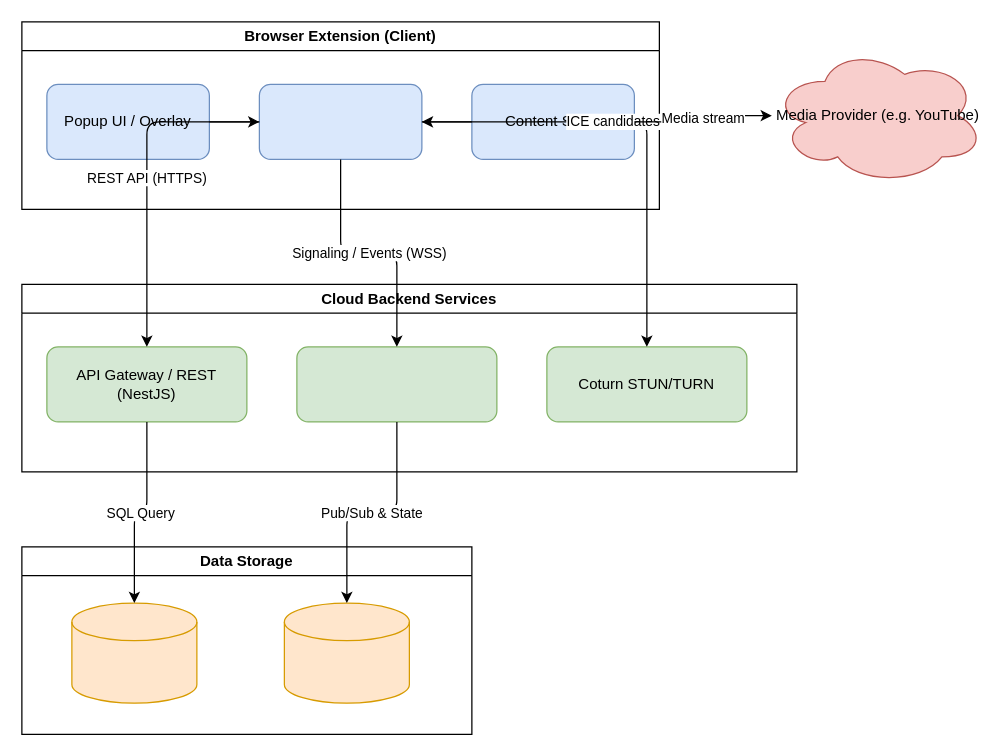
Some shapes in this 1006 by 756 pixel diagram are drawn without their labels. The centre of each missing label's shape, as x and y in pixels:
"Background Worker" goes at (340,121).
"PostgreSQL DB" goes at (134,652).
"Redis Session Cache" goes at (346,652).
"Room WS Manager" goes at (396,384).
